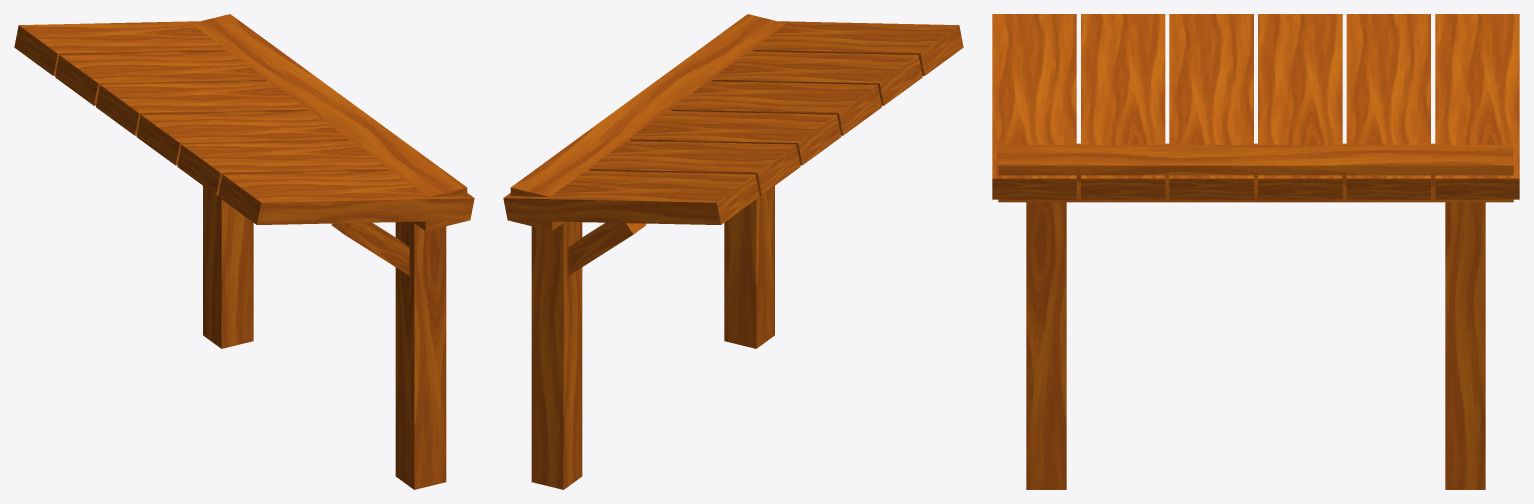
Rendered from module-wing.gltf.
3 renders of one model, left to right at view 1: azimuth 30°, elevation 25°; view 2: azimuth 150°, elevation 25°; view 3: azimuth 270°, elevation 25°, orthographic. The views are drawn at different scales.
Visible parts, largest first — view 1: module-wing; view 2: module-wing; view 3: module-wing.
Boxes of the visible parts, x1,y1,x2,y2 form: module-wing: (14,14,474,489); module-wing: (503,14,963,489); module-wing: (992,14,1519,489).
Size of the model in its own units: 0.6787 by 1.01 by 1.31.
1 material, 1 textured.
